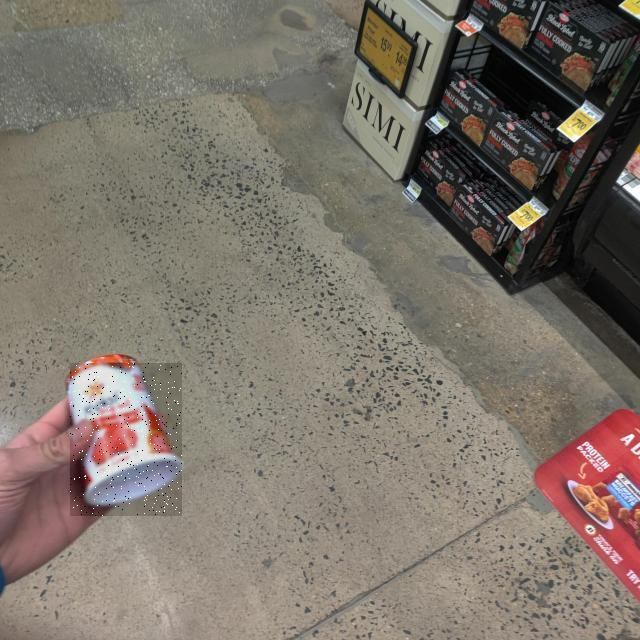Yoghurt: (71, 363, 183, 516)
